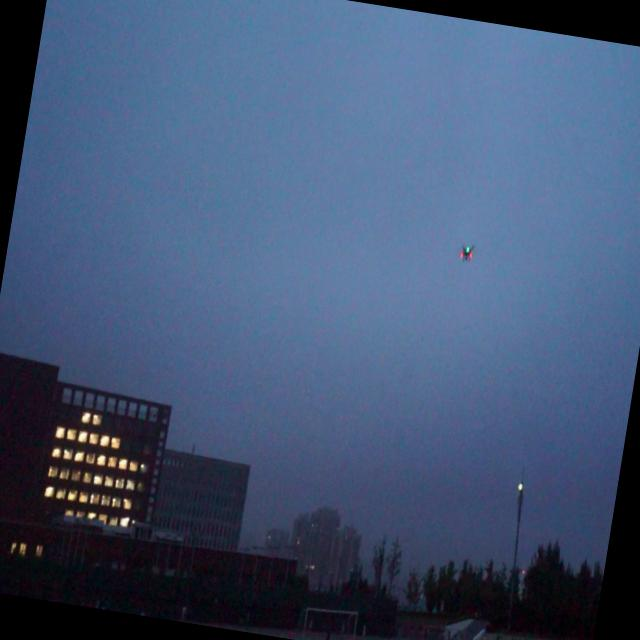drone: (456, 236, 478, 271)
